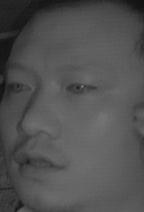eye: (65, 77, 99, 98), (5, 77, 33, 98)
mouth: (13, 144, 69, 177)
